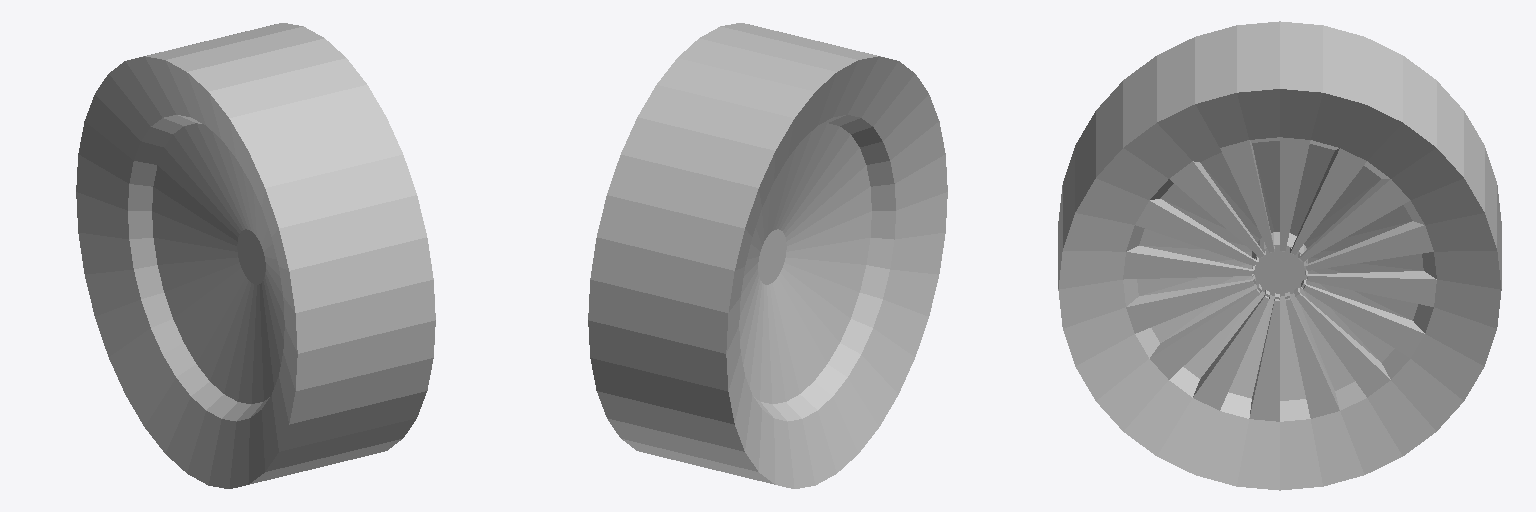
The model's file is roda_tras_direita.obj.
3 views of the same model, side by side, from view 1: azimuth 30°, elevation 25°; view 2: azimuth 150°, elevation 25°; view 3: azimuth 270°, elevation 25° (orthographic).
Parts seen in each view (by area): view 1: Roda_tras_direita; view 2: Roda_tras_direita; view 3: Roda_tras_direita.
Boxes of the visible parts, x1,y1,x2,y2 form: Roda_tras_direita: [76, 23, 435, 488]; Roda_tras_direita: [588, 23, 947, 488]; Roda_tras_direita: [1058, 21, 1501, 490].
Bounding box in the file's own units: 0.2109 × 0.5859 × 0.5859.